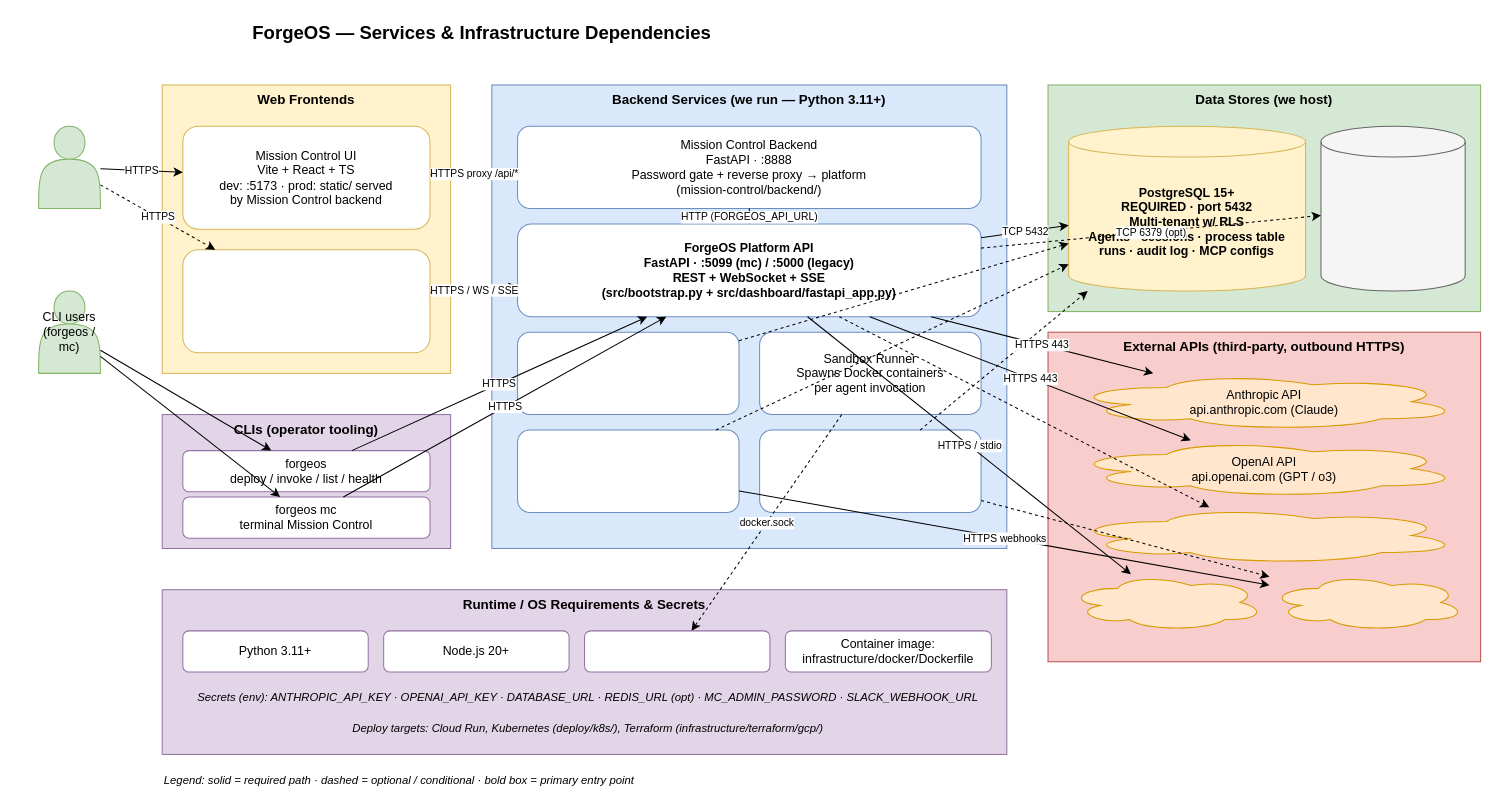
The diagram is 1499 pixels wide and 808 high, and some of its shapes have lost their labels. Here are the shapes that lost their labels. From the top down, the centre of each, then its label:
At pixel 69 167: "Operators (browser)".
At pixel 1392 208: "Redis OPTIONAL · port 6379 Session cache event subs".
At pixel 306 301: "Next.js Dashboard Node.js · :3000 (legacy / alternate UI)".
At pixel 628 373: "Scheduler Loop (in-process, --loop flag) Cron + event triggers".
At pixel 628 470: "A2H Gateway Approvals + human notifications (src/platform/a2h.py, a2h/)".
At pixel 870 470: "Observability Sidecar Prometheus metrics + audit log (observability/)".
At pixel 1264 535: "Google AI / Vertex (ADK adapter — optional)".
At pixel 1166 602: "MCP Servers (filesystem · web · email · …)".
At pixel 1366 602: "Slack / PagerDuty (alerts + A2H)".
At pixel 676 651: "Docker daemon (Sandbox stack only)".
